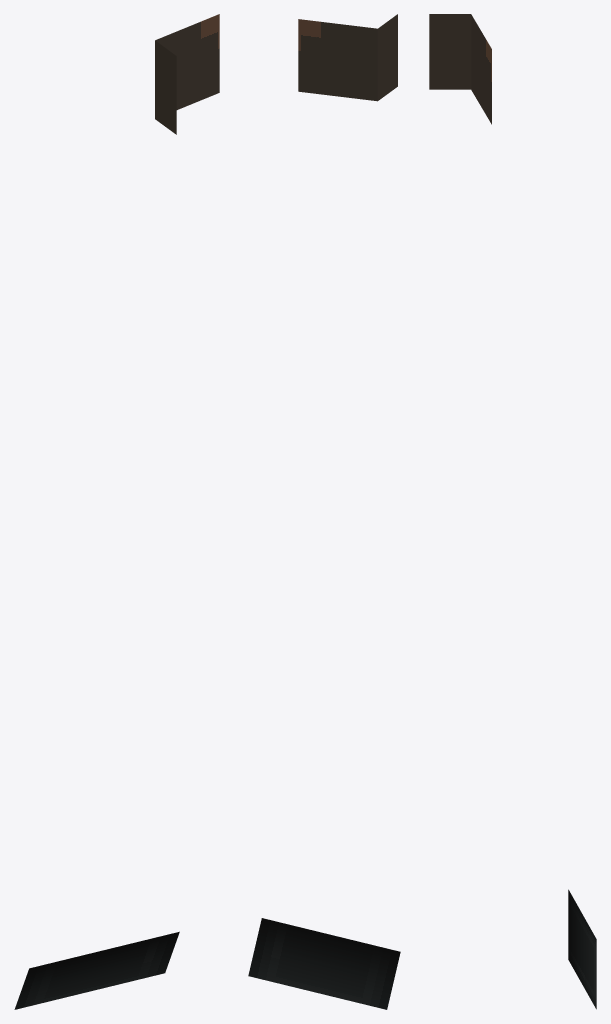
The picture shows the model from 3 angles, left to right: view 1: azimuth 30°, elevation 25°; view 2: azimuth 150°, elevation 25°; view 3: azimuth 270°, elevation 25°; orthographic projection. The views are drawn at different scales.
Size of the model in its own units: 1 by 6.33 by 1.
2 materials, 2 textured.
